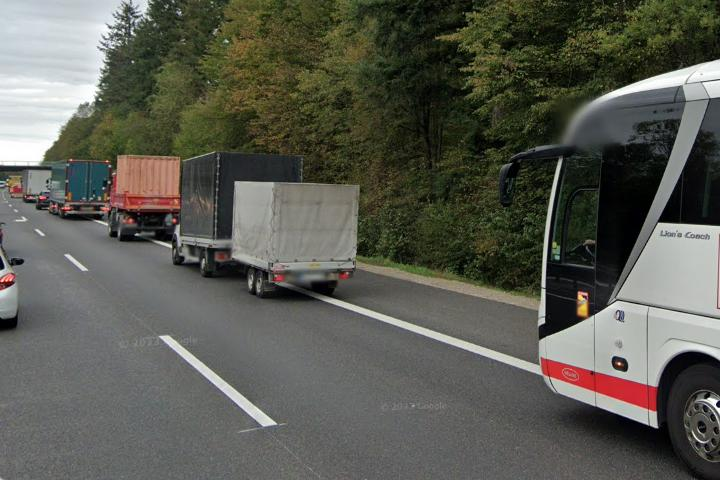vehicle: (490, 46, 720, 480), (169, 145, 377, 313), (101, 147, 184, 245), (45, 156, 110, 218), (18, 166, 56, 201), (34, 190, 53, 208), (9, 183, 25, 198)
